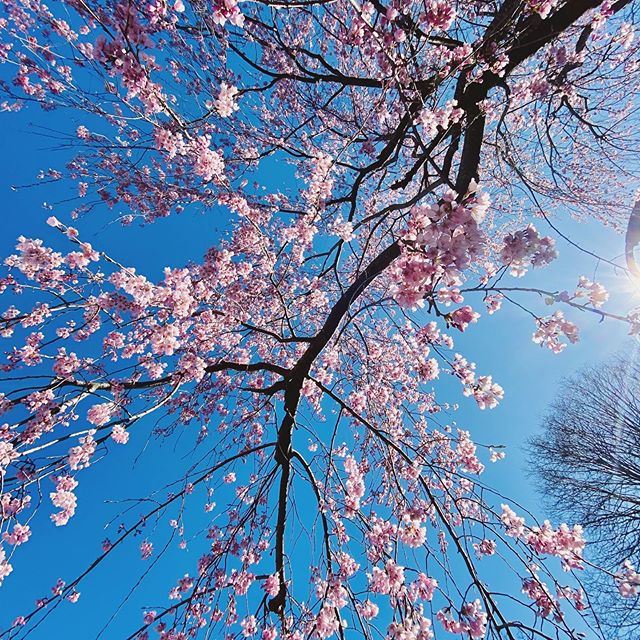tree: (1, 1, 640, 640)
